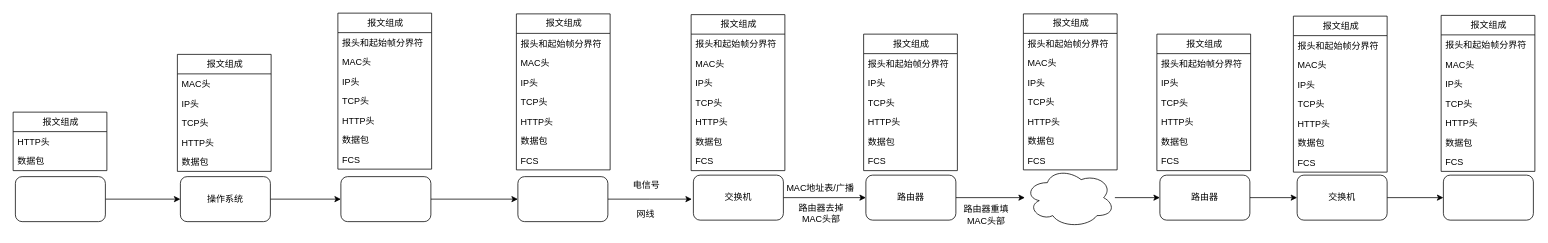
Image size: 1548x243. Some labels were removed from this diagram. The shapes that lost their labels are listed below. From the top down, each one's box as (x1, y1, x2, y2) in pixels, then its label:
(15, 176, 105, 222): 应用程序
(340, 176, 431, 222): 网卡驱动
(517, 176, 608, 222): 网卡
(1024, 167, 1115, 228): 互联网
(1443, 174, 1533, 220): 电脑/服务器
